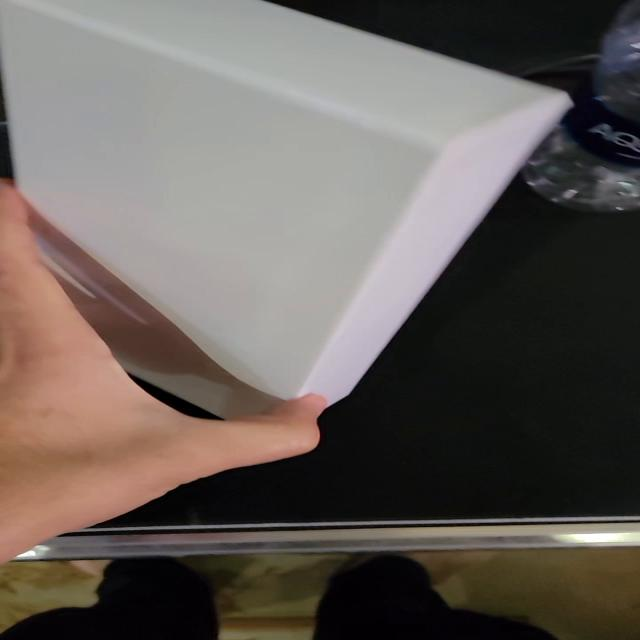Organik: (0, 0, 578, 460)
